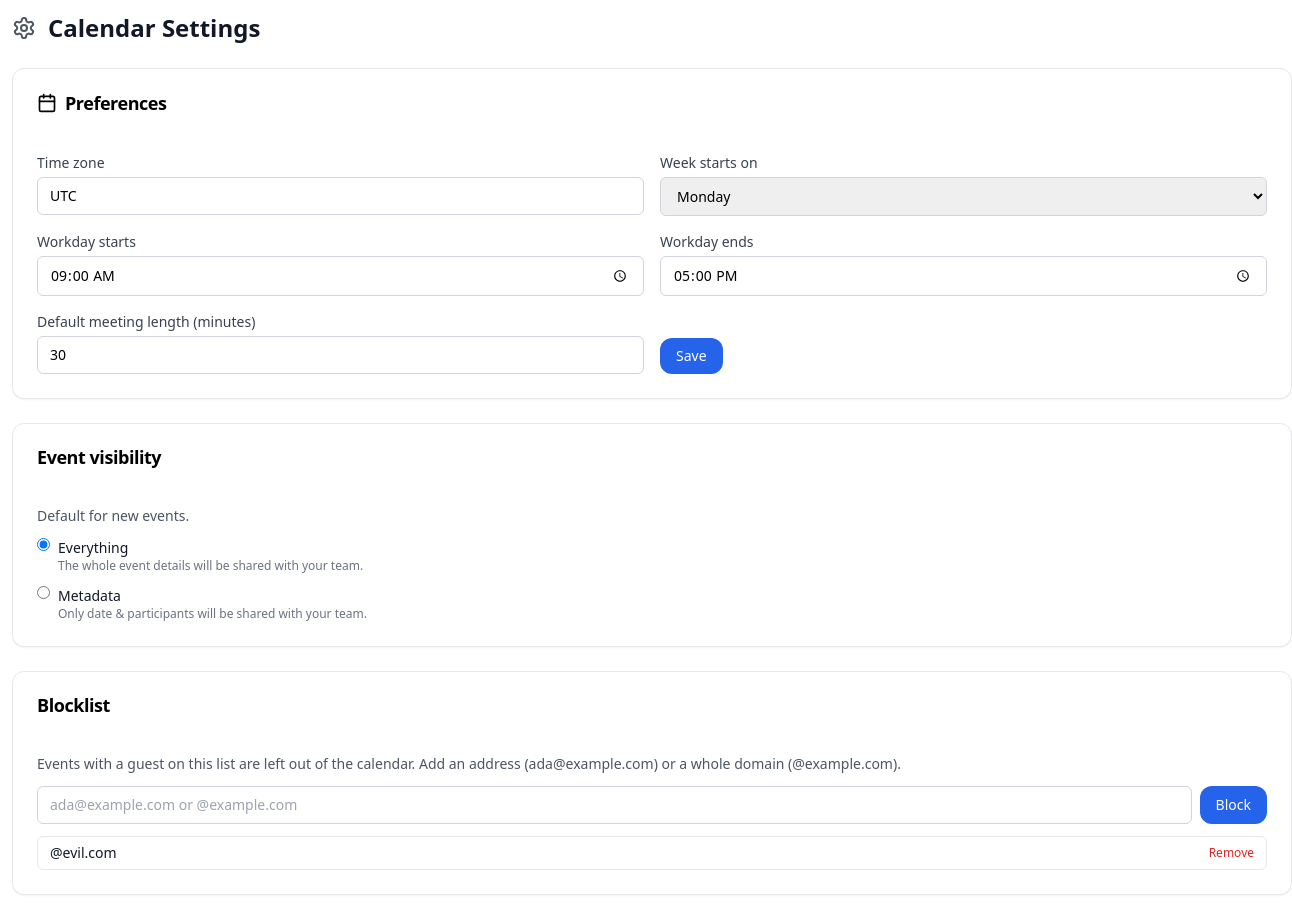
Test: CalendarSettings: blocklist › an older, slower list read cannot bring back an entry that was just removed
The width and height of the screenshot is (1292, 912).
Expected: the text "@evil.com" is shown, [50, 843, 117, 863]
Step 1. Type "x@y.io" into the field named "Address or domain to block" → coordinates (614, 805), box [37, 786, 1192, 824]
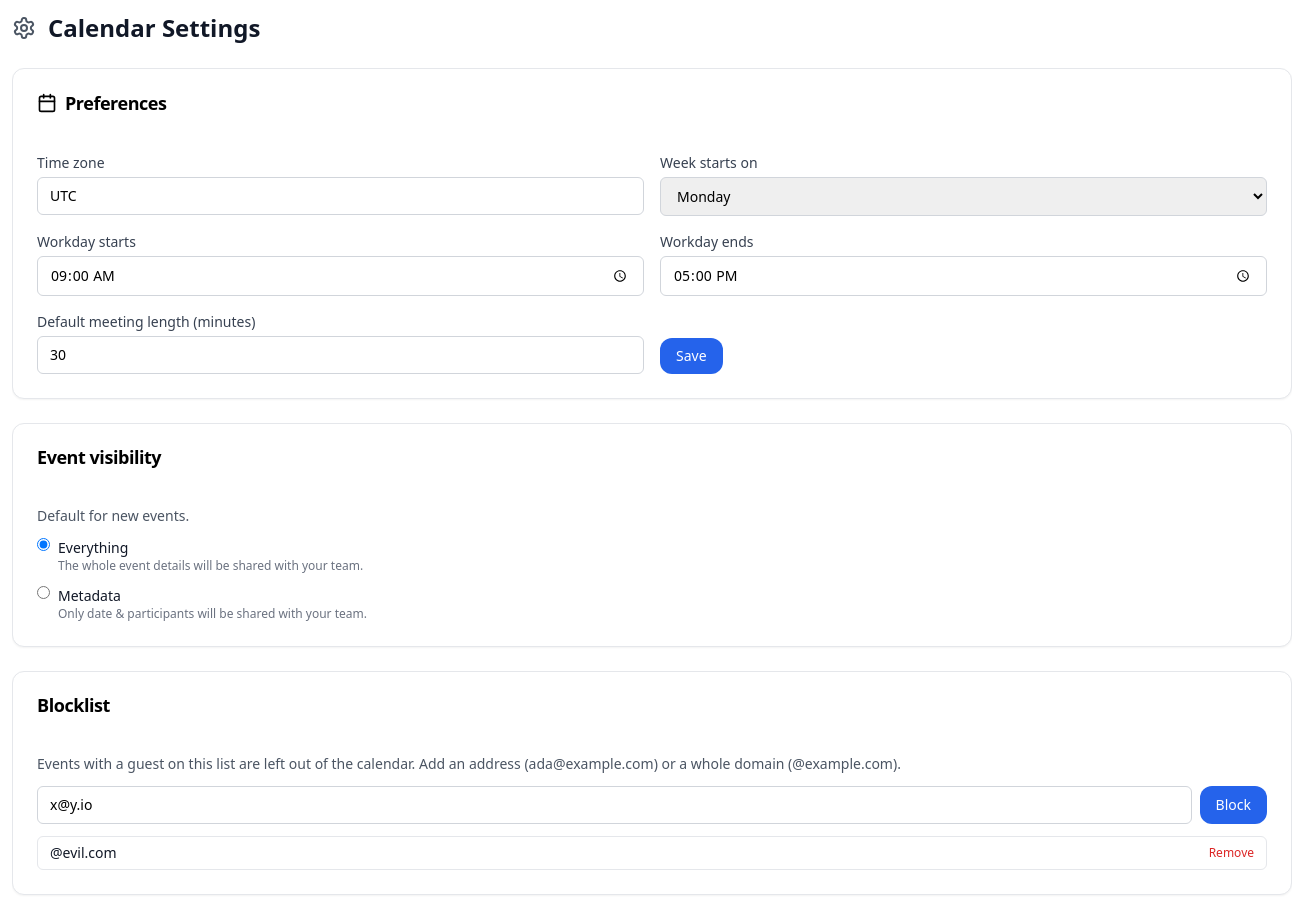
Step 2. Click the button "Block" → coordinates (1233, 805), box [1200, 786, 1267, 824]
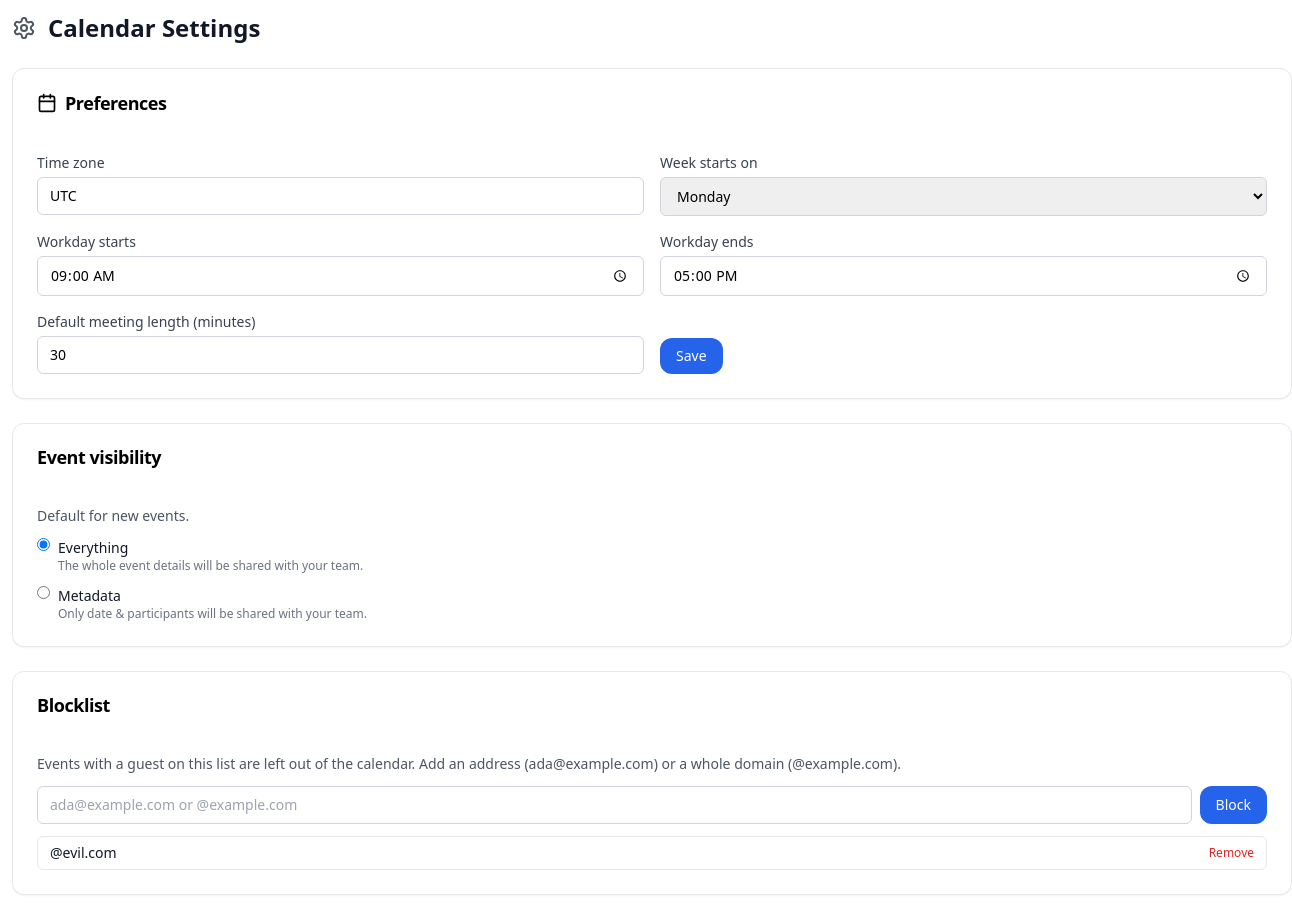
Step 3. Click the button with aria-label "Unblock @evil.com" → coordinates (1231, 853), box [1209, 845, 1254, 861]
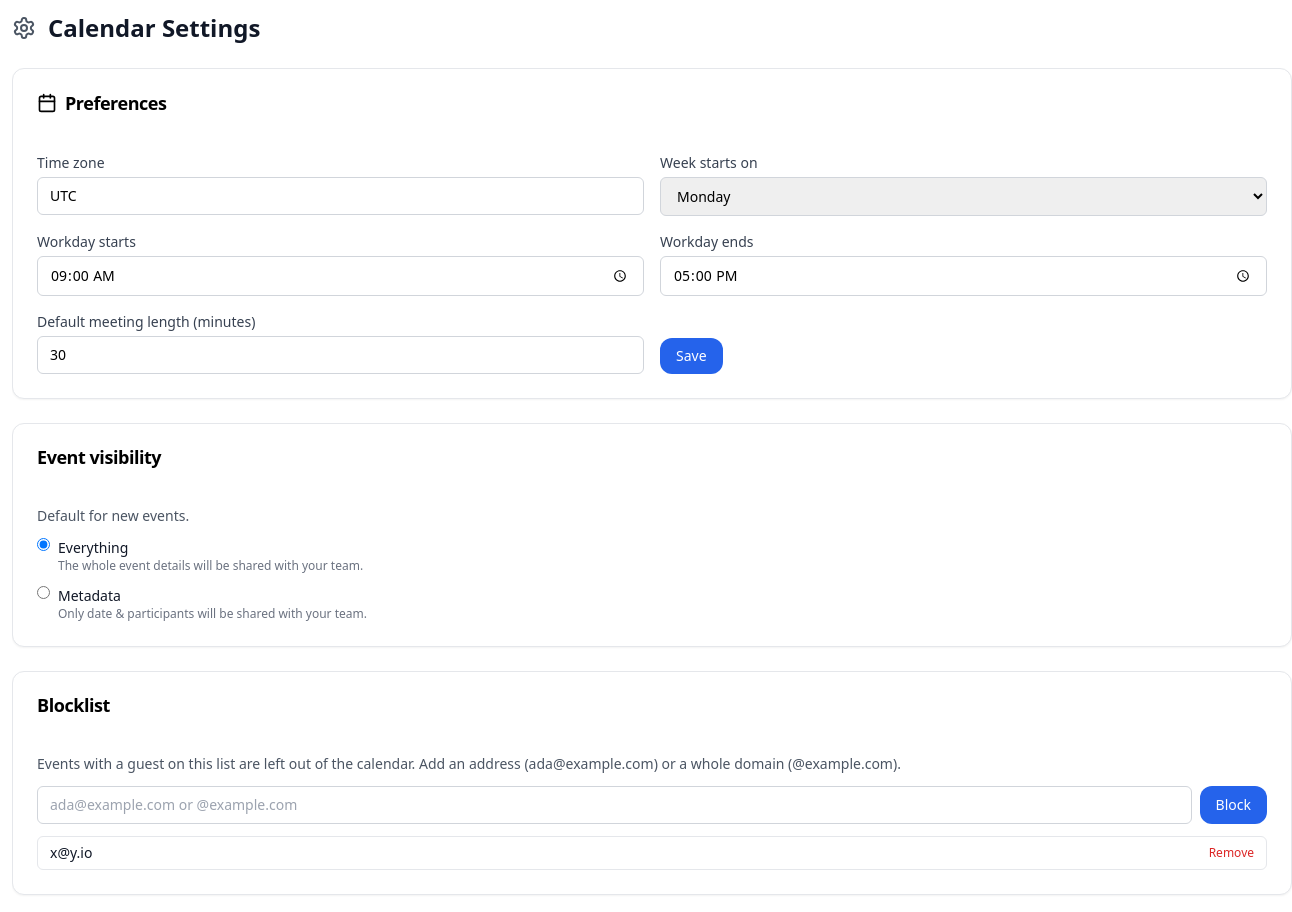
Expected: the text "@evil.com" is gone
Expected: the text "x@y.io" is shown, [50, 843, 92, 863]
